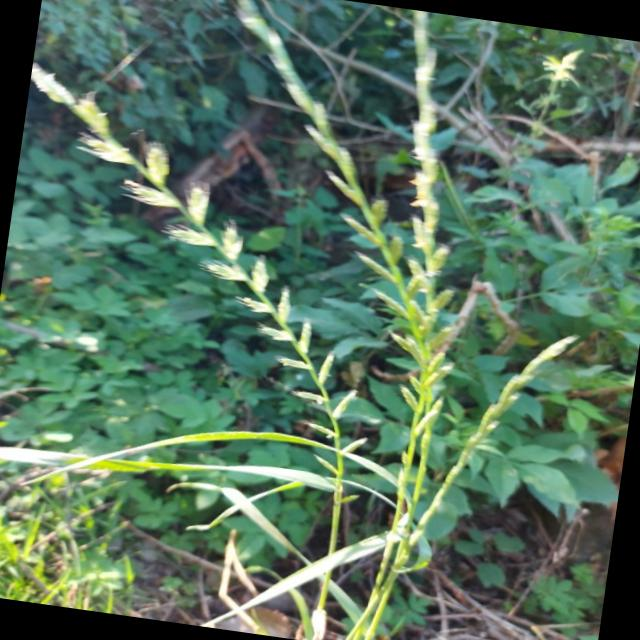Lolium: (0, 61, 404, 640), (153, 0, 479, 640), (317, 13, 512, 640), (382, 311, 580, 618)
